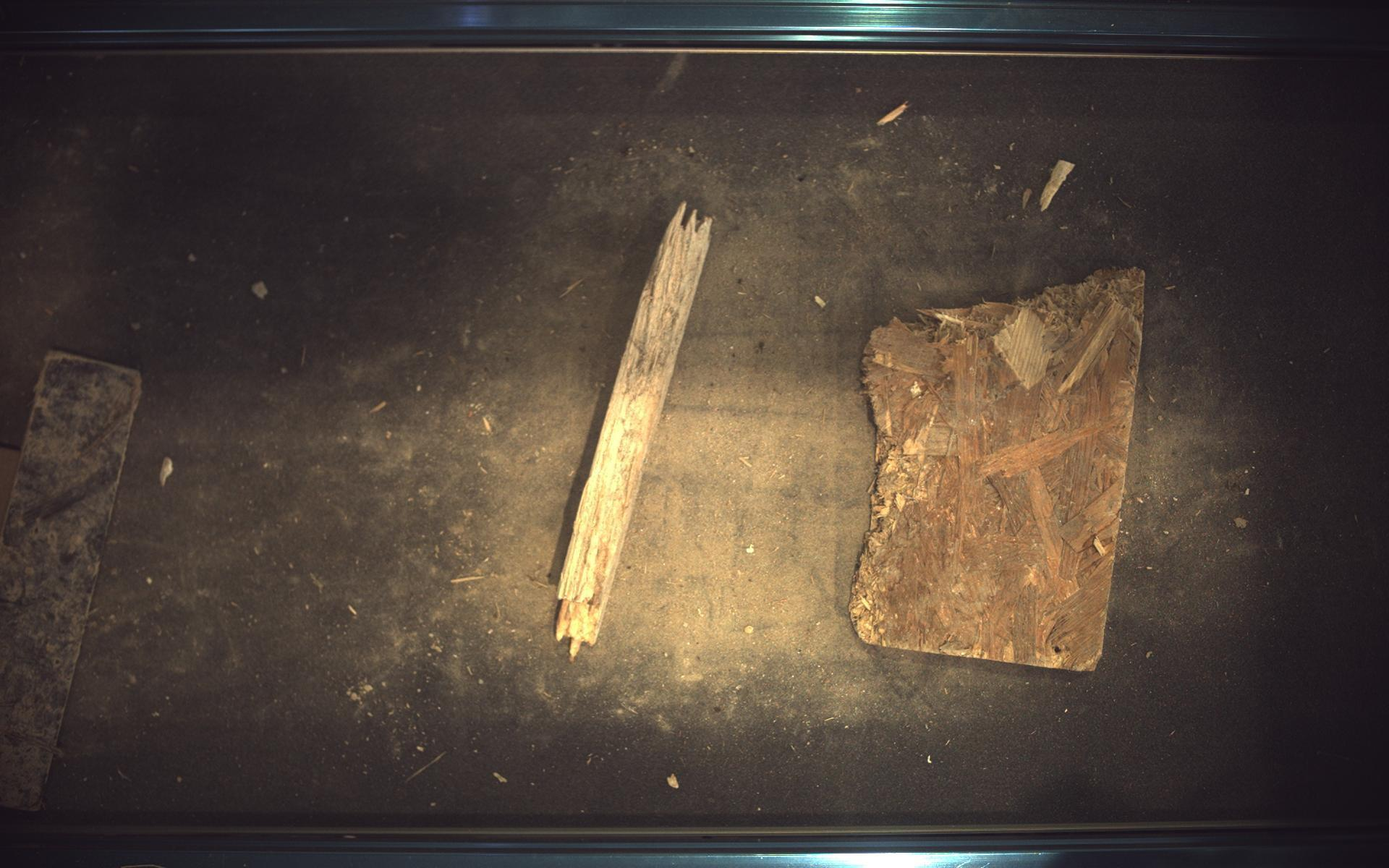wood: (851, 268, 1147, 672), (556, 203, 713, 661)
